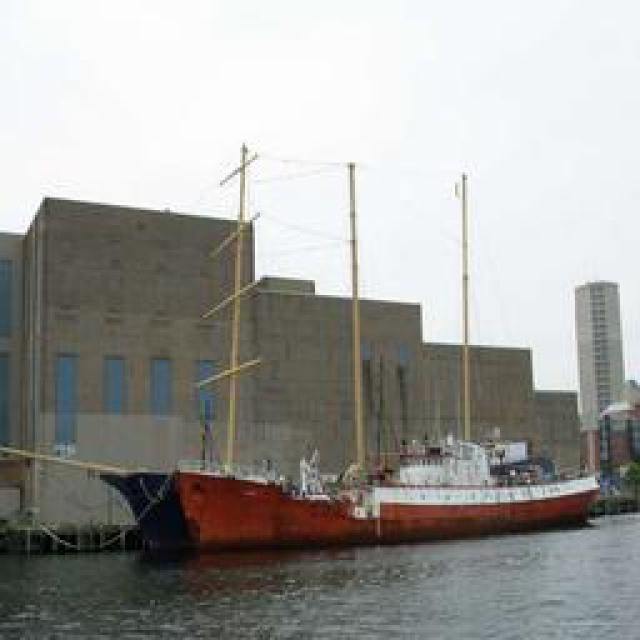Ship: (139, 440, 594, 550)
